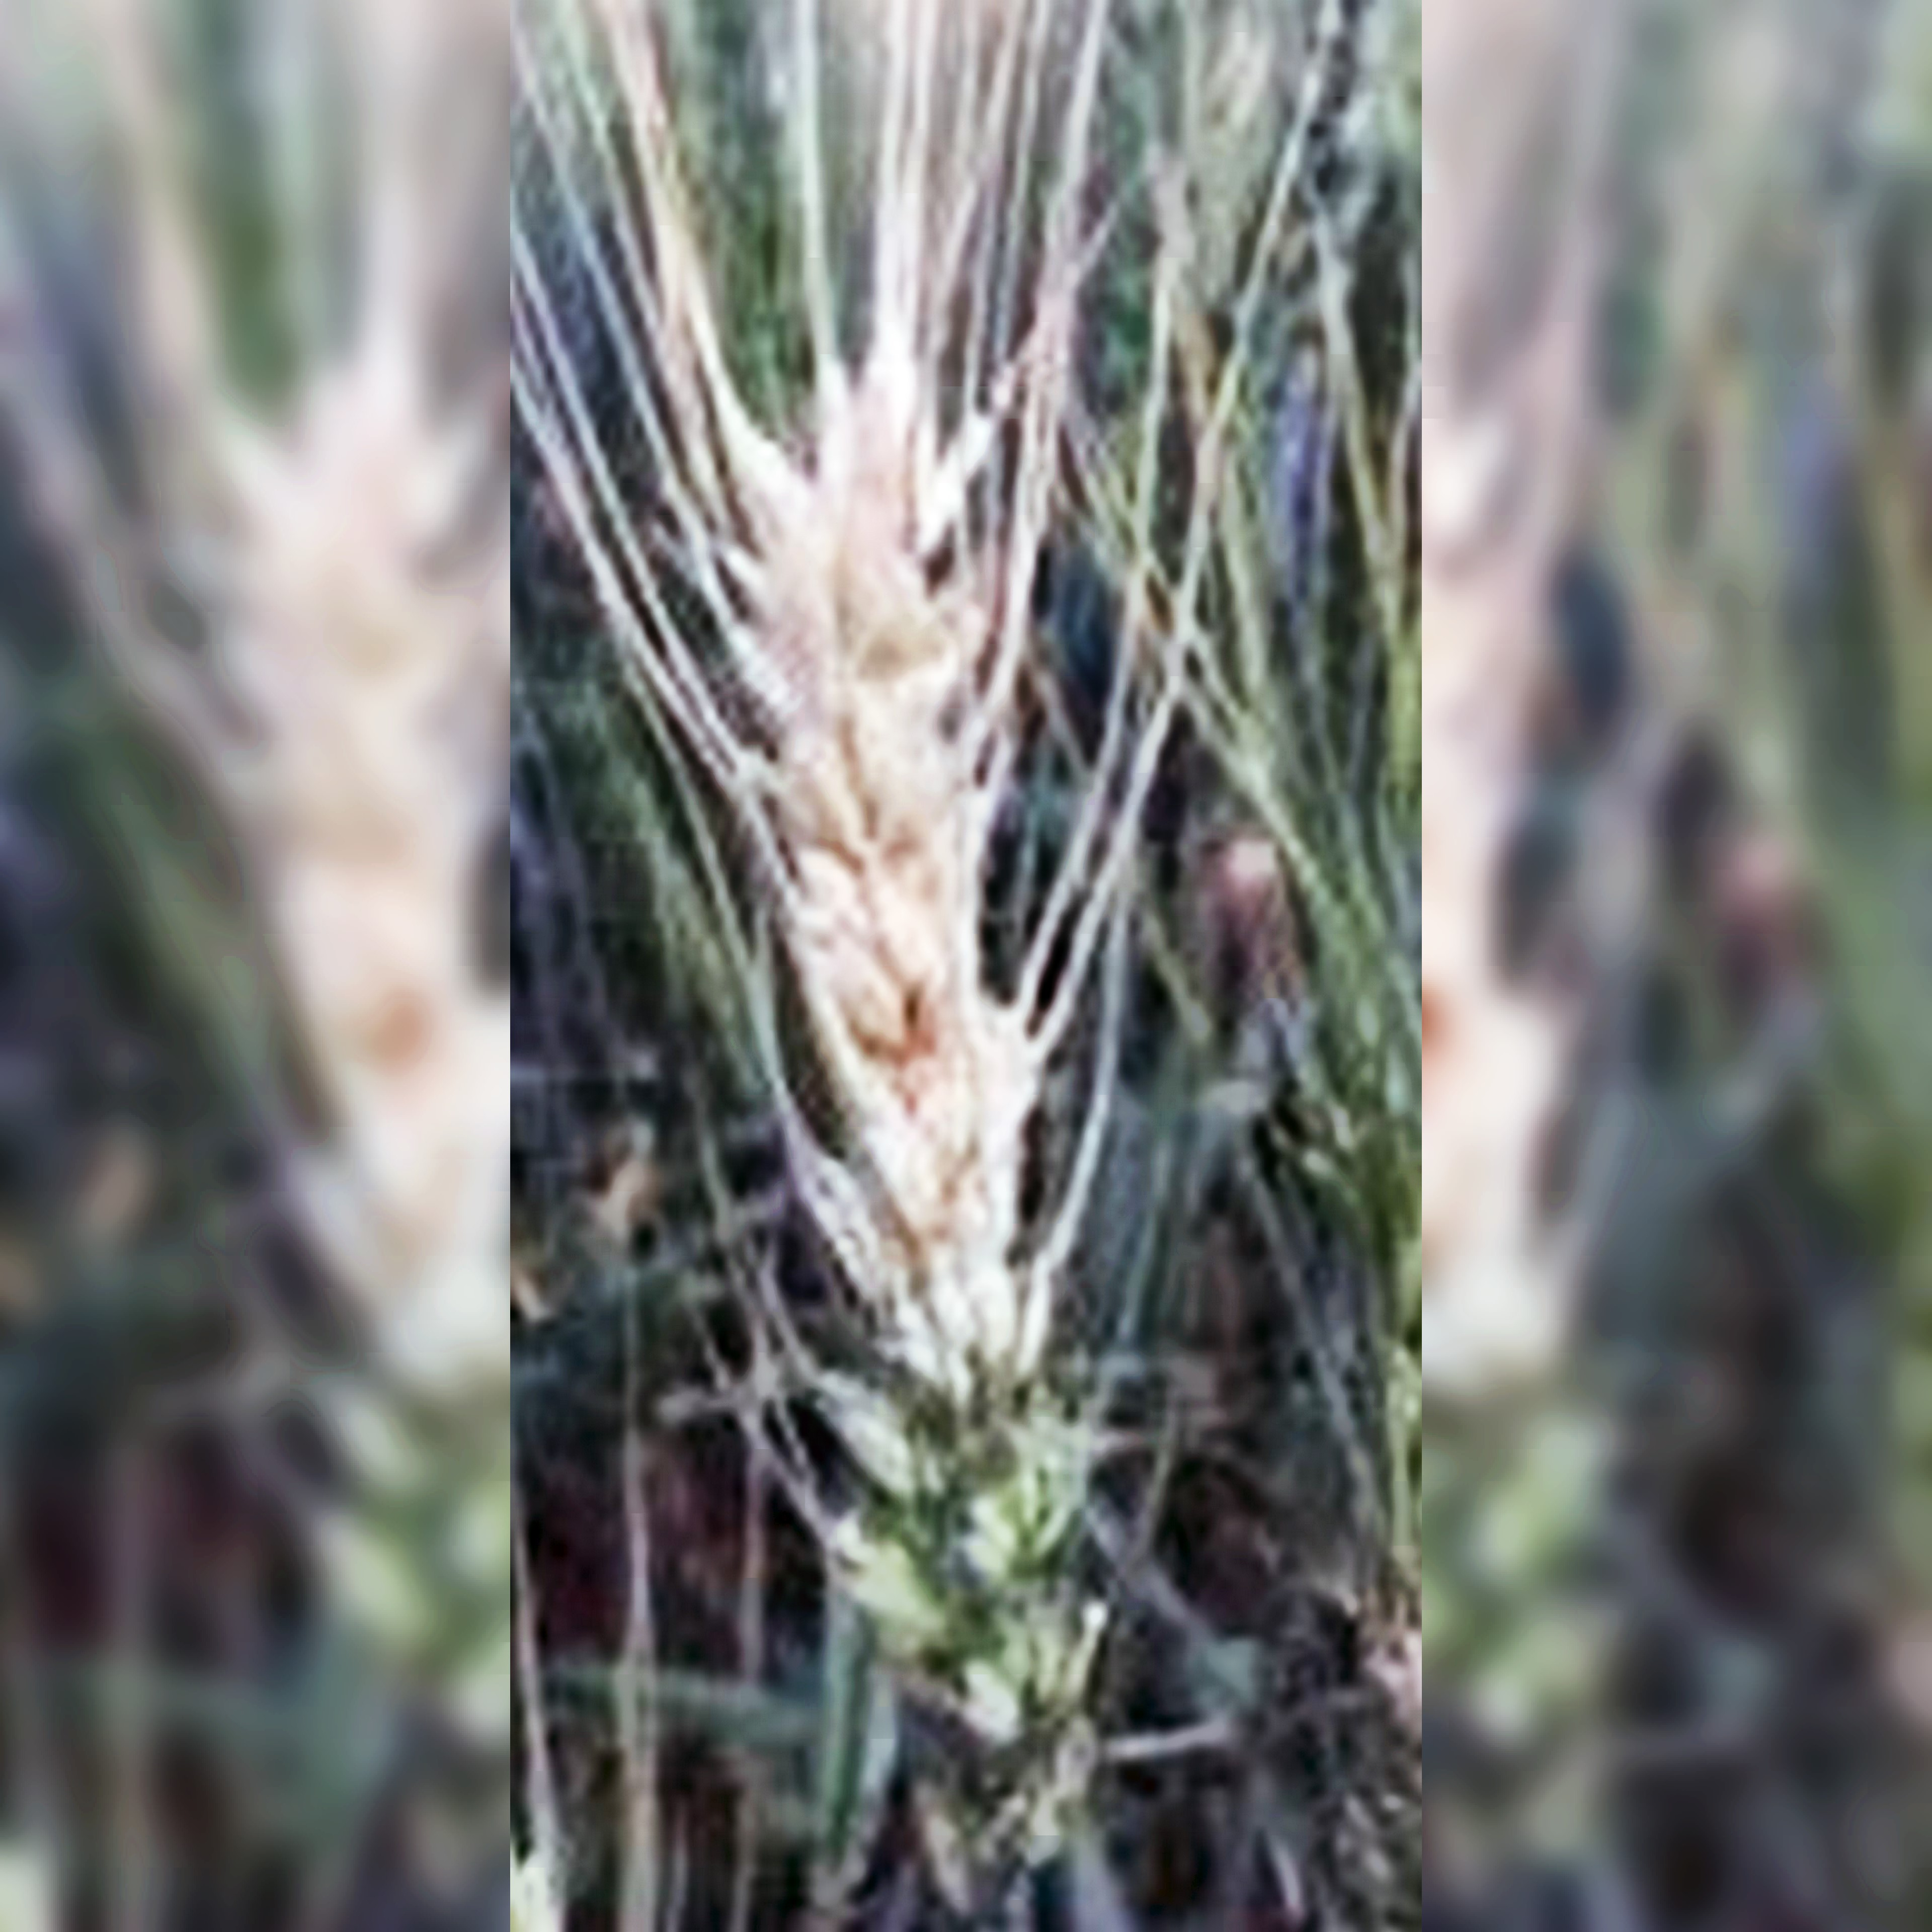Wheat scab: (685, 347, 1122, 1831)
